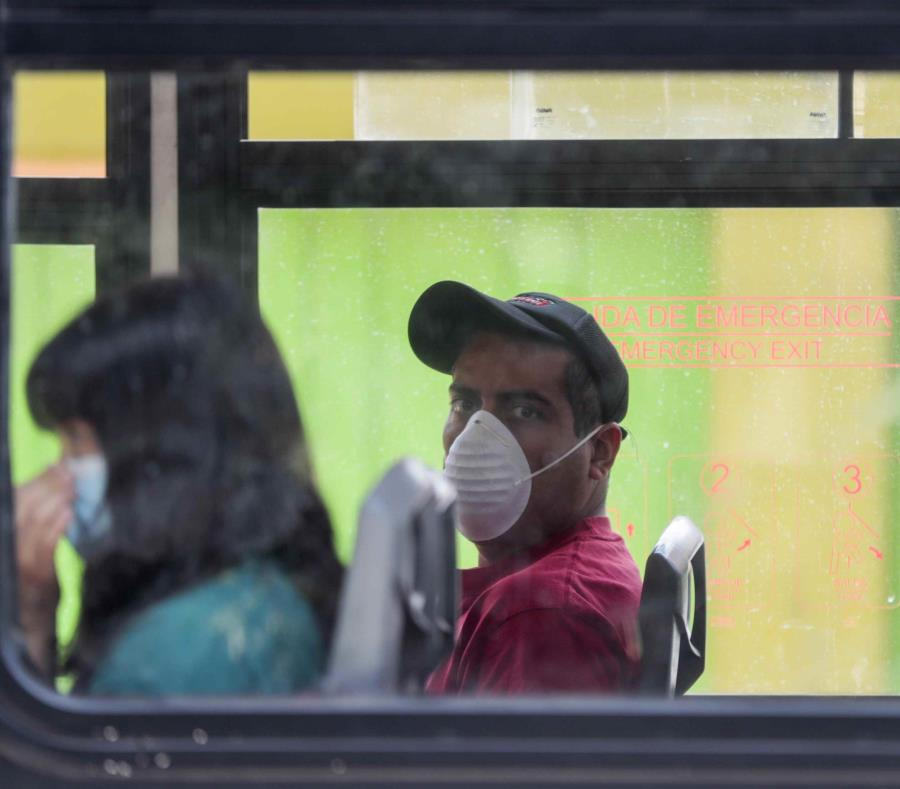with_mask: (15, 338, 204, 591), (419, 321, 608, 546)
